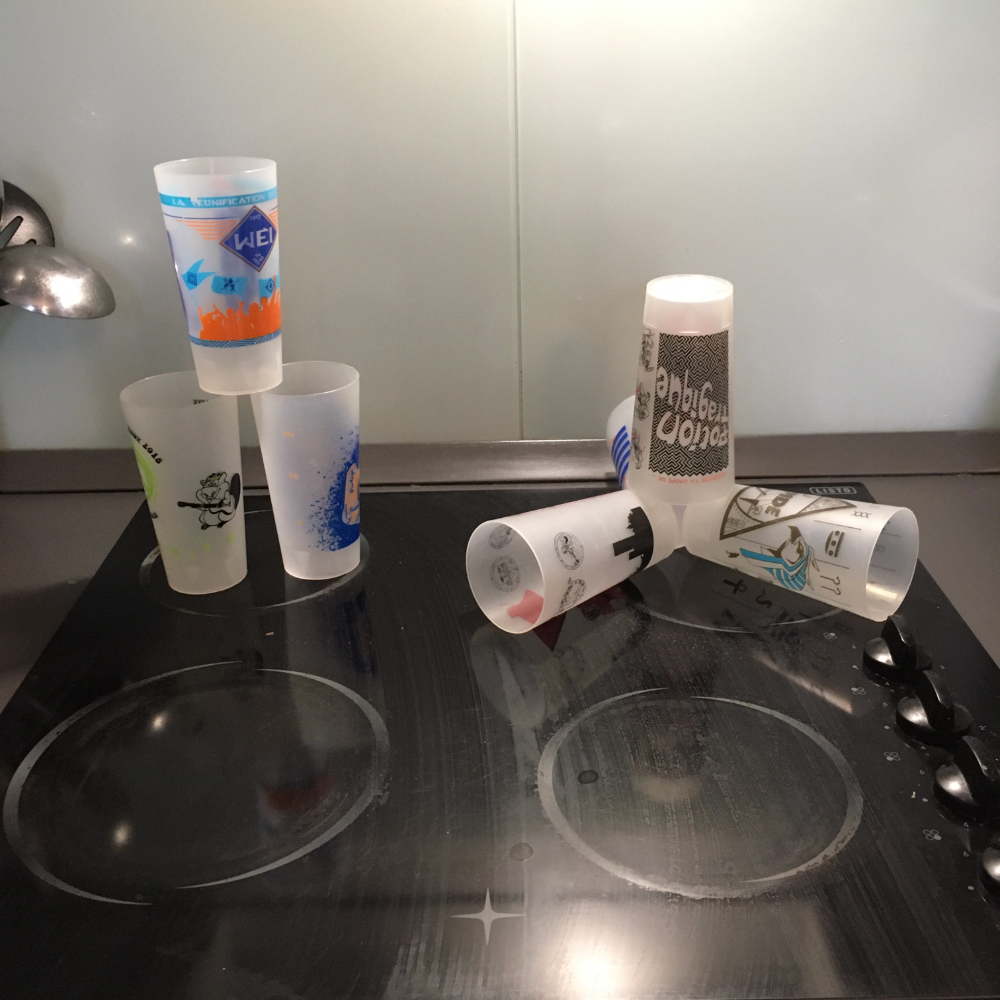ecocup: (683, 484, 919, 622), (153, 155, 283, 394), (465, 489, 679, 633), (120, 370, 247, 594), (627, 275, 735, 504), (249, 361, 359, 580), (607, 393, 703, 548)
